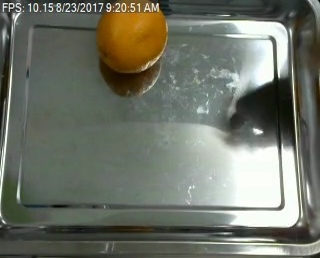Orange: (96, 13, 166, 73)
